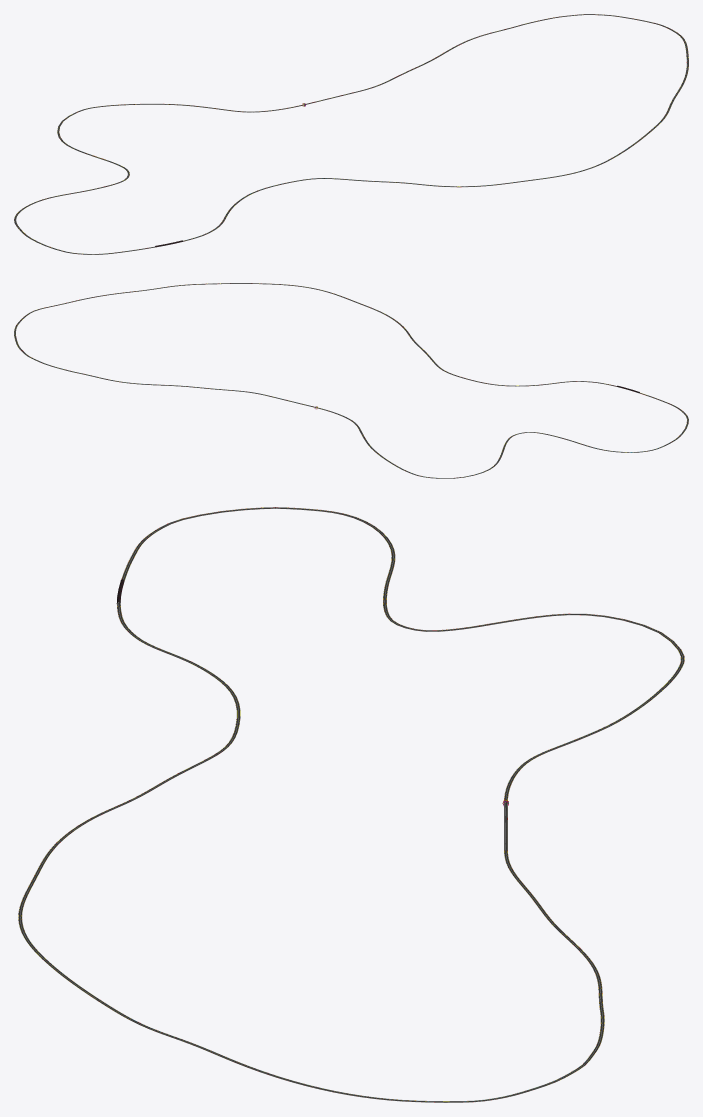
The model's file is Level5.fbx.
3 renders of one model, top to bottom at view 1: azimuth 30°, elevation 25°; view 2: azimuth 150°, elevation 25°; view 3: azimuth 270°, elevation 25°, orthographic. The views are drawn at different scales.
Visible parts, largest first — view 1: road, polySurface2; view 2: road, polySurface2; view 3: road, polySurface2.
Part boxes in pixels (box(x1,y1,x2,y2)): road: box(14, 14, 688, 254); polySurface2: box(14, 14, 688, 254); road: box(14, 283, 688, 478); polySurface2: box(14, 283, 688, 478); road: box(18, 507, 684, 1102); polySurface2: box(18, 507, 684, 1102).
Bounding box in the file's own units: 728452 × 4165 × 342468.
7 materials, 2 textured.
